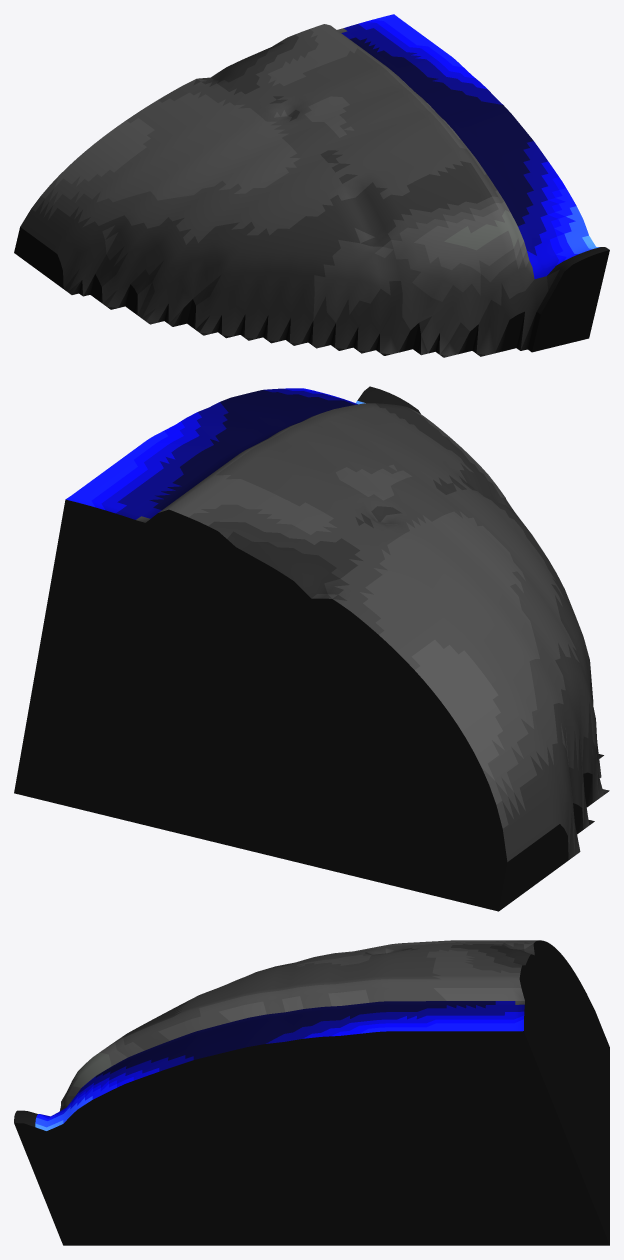
Rendered from time_capsule_92.glb.
The picture shows the model from 3 angles, top to bottom: view 1: azimuth 30°, elevation 25°; view 2: azimuth 150°, elevation 25°; view 3: azimuth 270°, elevation 25°; orthographic projection. The views are drawn at different scales.
Parts seen in each view (by area): view 1: time_capsule_92; view 2: time_capsule_92; view 3: time_capsule_92.
Boxes of the visible parts, bbox=[...] form: time_capsule_92: bbox=[14, 14, 609, 357]; time_capsule_92: bbox=[14, 386, 609, 911]; time_capsule_92: bbox=[14, 940, 609, 1245].
Size of the model in its own units: 24 by 12.72 by 30.52.
